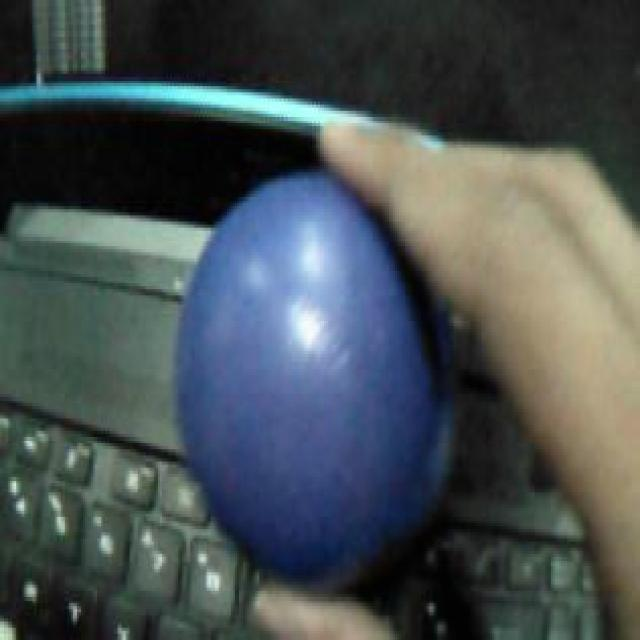BallPurple: (173, 173, 452, 592)
